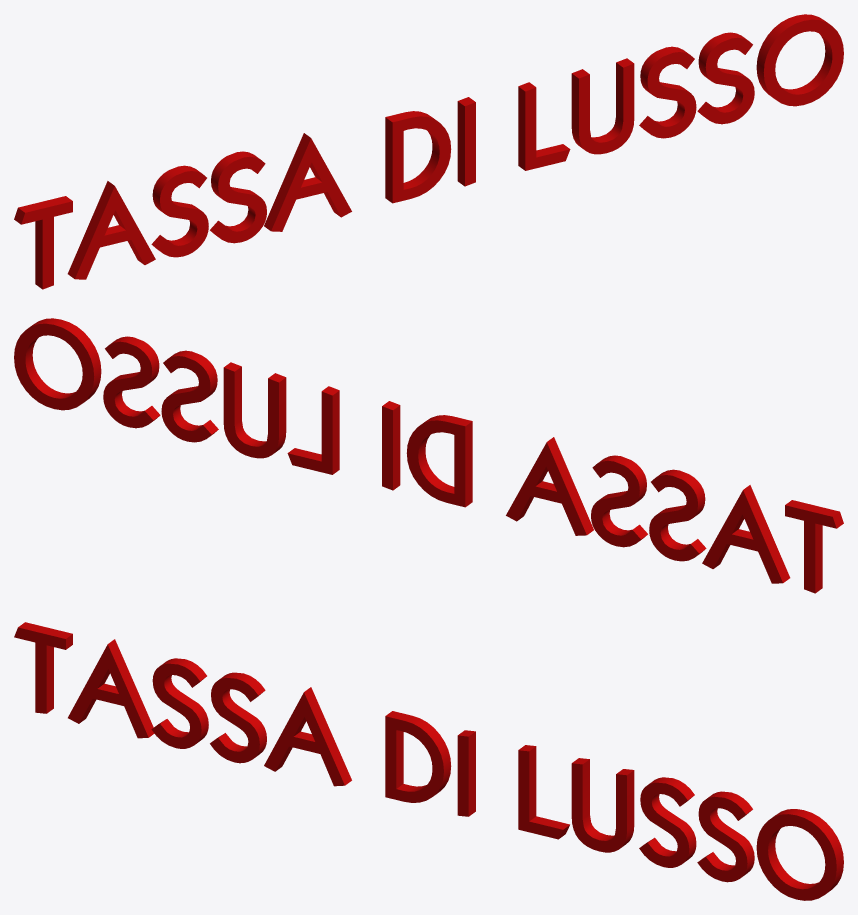
The model's file is TassaDiLusso.fbx.
3 renders of one model, top to bottom at view 1: azimuth 30°, elevation 25°; view 2: azimuth 150°, elevation 25°; view 3: azimuth 330°, elevation 25°, orthographic.
Parts seen in each view (by area): view 1: TASSA_DI_LUSSO1; view 2: TASSA_DI_LUSSO1; view 3: TASSA_DI_LUSSO1.
Boxes of the visible parts, x1,y1,x2,y2 form: TASSA_DI_LUSSO1: (14, 14, 843, 289); TASSA_DI_LUSSO1: (14, 318, 843, 593); TASSA_DI_LUSSO1: (14, 622, 843, 900).
Bounding box in the file's own units: 1.98 × 0.2004 × 0.03.
